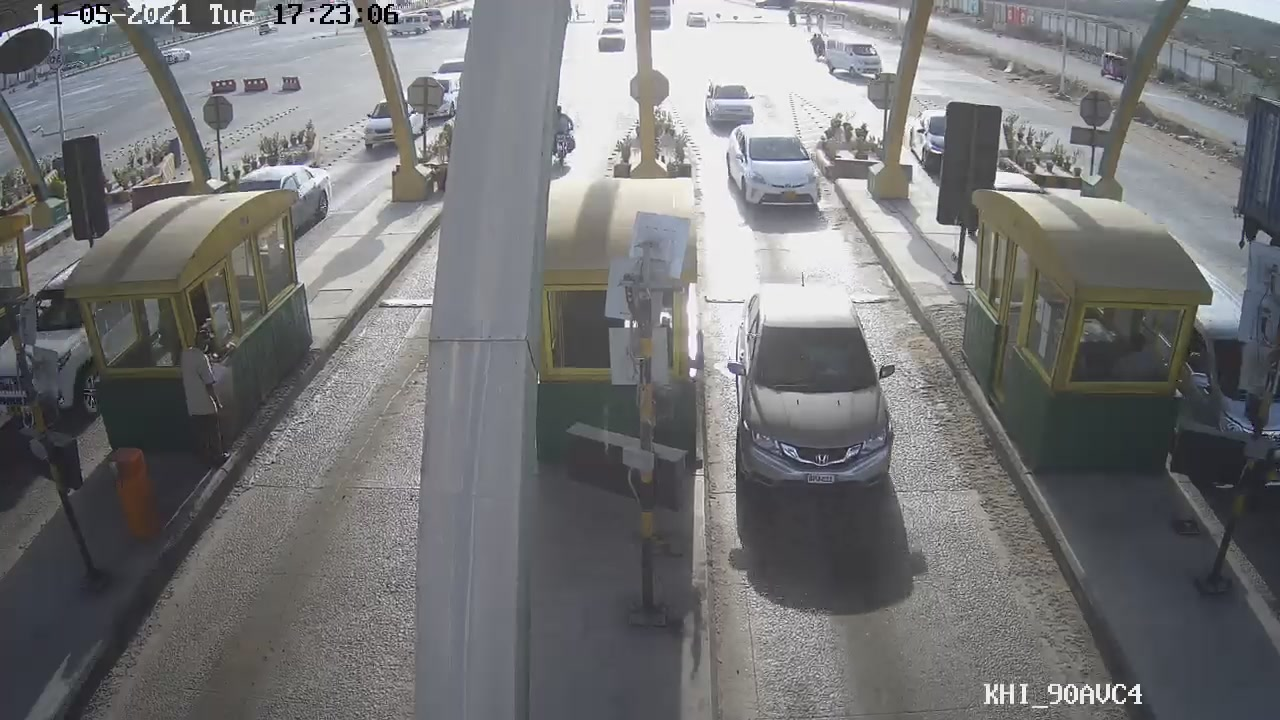F1: (727, 284, 913, 499)
